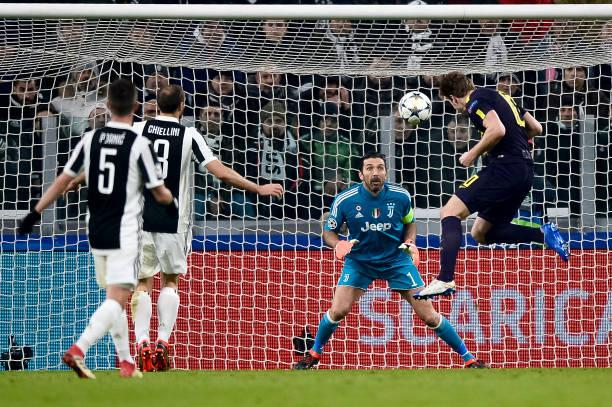Goalkeeper: (294, 152, 485, 369)
Player: (19, 79, 173, 378), (131, 85, 283, 372), (415, 72, 569, 298)
ball: (398, 91, 432, 125)
